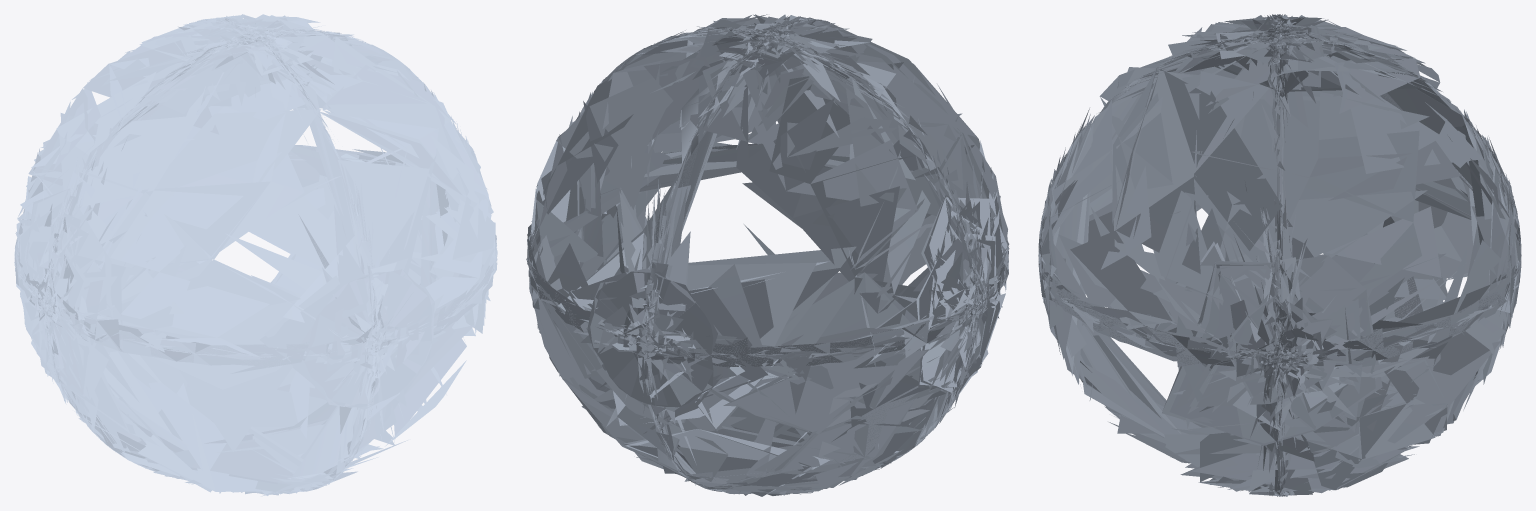
Rendered from stage2.glb.
3 views of the same model, side by side, from view 1: azimuth 30°, elevation 25°; view 2: azimuth 150°, elevation 25°; view 3: azimuth 270°, elevation 25° (orthographic).
Visible parts, largest first — view 1: ehouse-2-structural; view 2: ehouse-2-structural; view 3: ehouse-2-structural.
Boxes of the visible parts, bbox=[...] form: ehouse-2-structural: bbox=[14, 14, 497, 496]; ehouse-2-structural: bbox=[526, 14, 1009, 496]; ehouse-2-structural: bbox=[1038, 14, 1521, 496].
Bounding box in the file's own units: 2 × 2 × 2.
